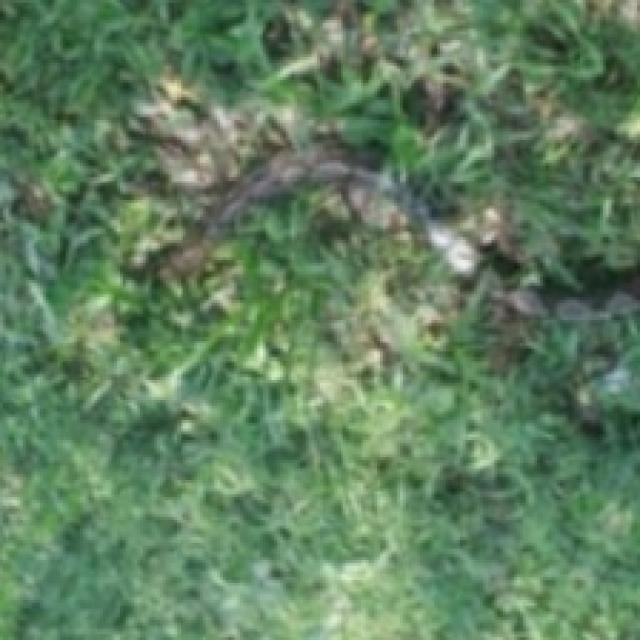reticulated python: (169, 149, 502, 282), (490, 274, 640, 321)
